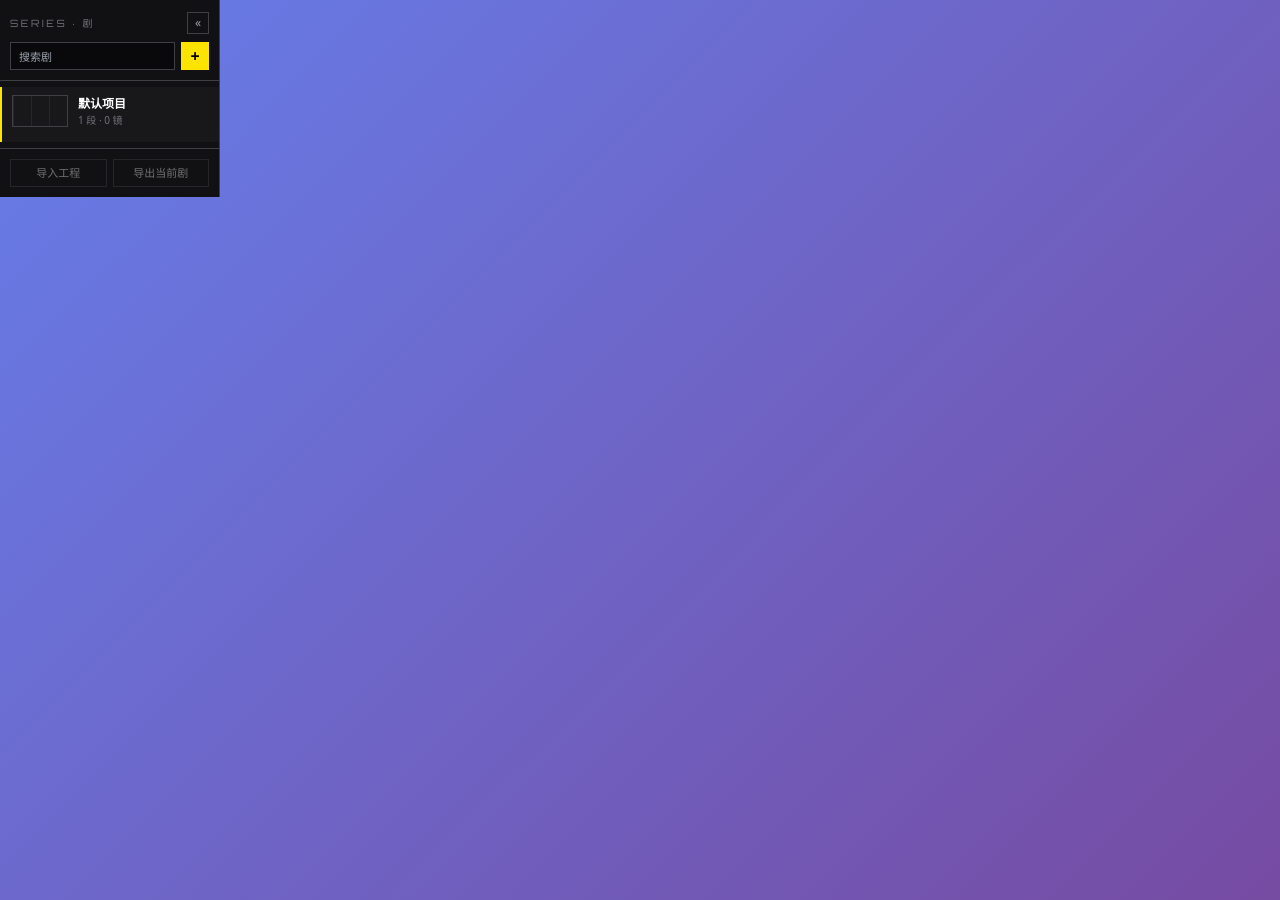
Test: ProjectRail 右键菜单 › 只剩一部剧时「删除」禁用,说明原因
Right-click the button with aria-label "切换到剧 默认项目" at (110, 114), box [2,87,219,142]
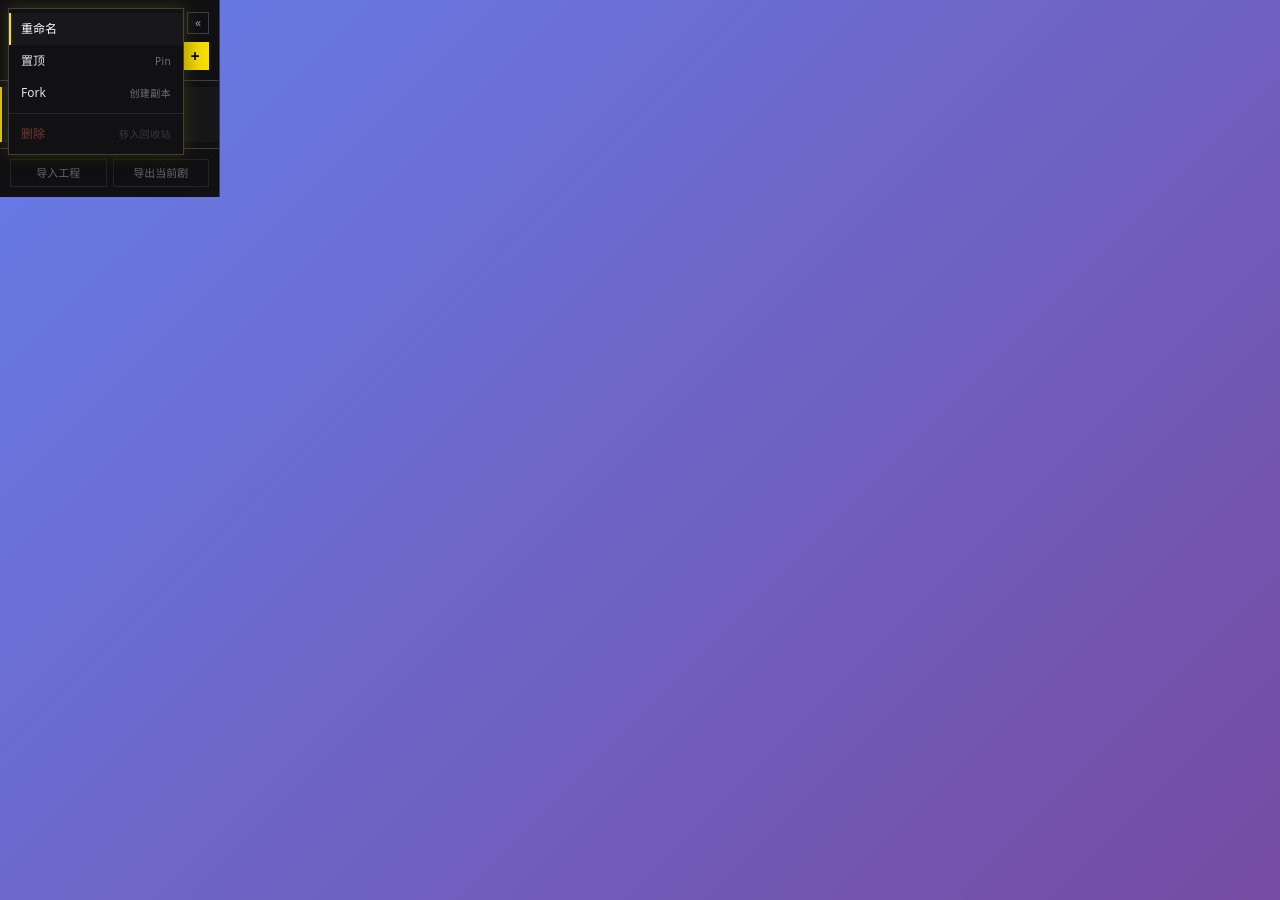
Now the menu item "删除 移入回收站" is disabled, box [9,118,183,150]
